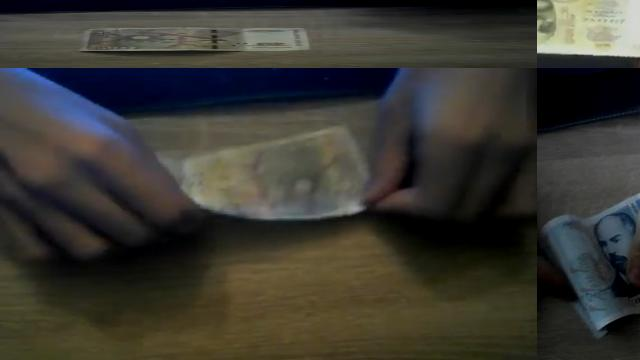10leva: (162, 126, 369, 222), (79, 27, 312, 51)
20leva: (540, 195, 640, 340)
